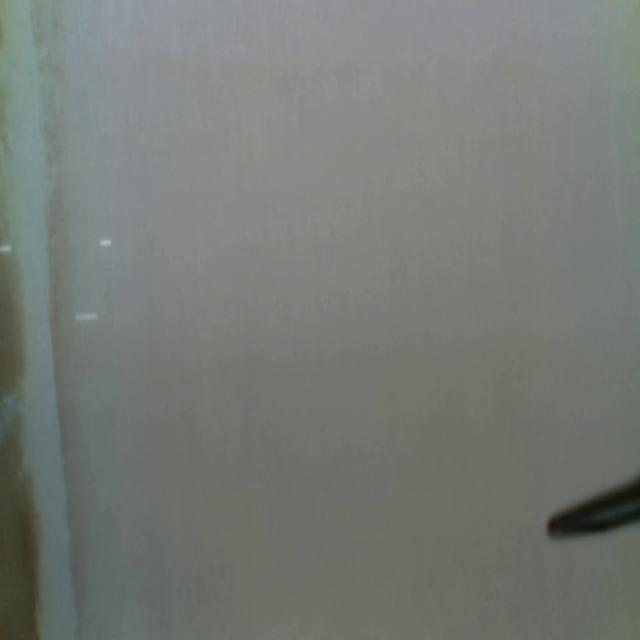color bleeding: (0, 0, 90, 640)
